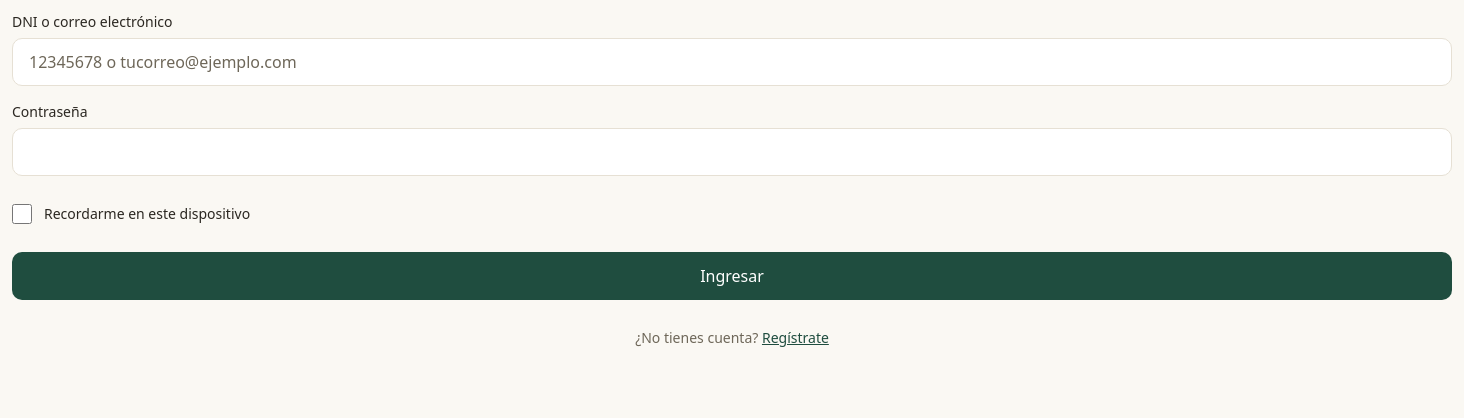
Test: M1 · Autenticación y sesión (ModalLogin + AuthContext) › Prueba 2 (error 401): credenciales inválidas muestran el mensaje de la API y no guardan sesión
The image size is (1464, 418).
Type "00000000" into the field labelled "DNI o correo electrónico" at (732, 62), box [12,38,1452,86]
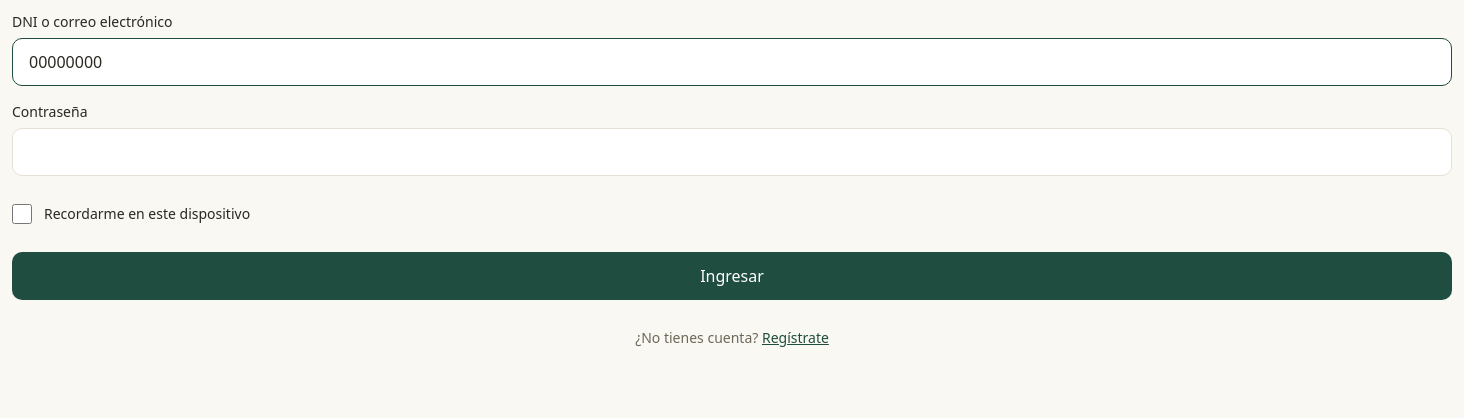
Type "incorrecta" into the password field labelled "Contraseña" at (732, 152), box [12,128,1452,176]
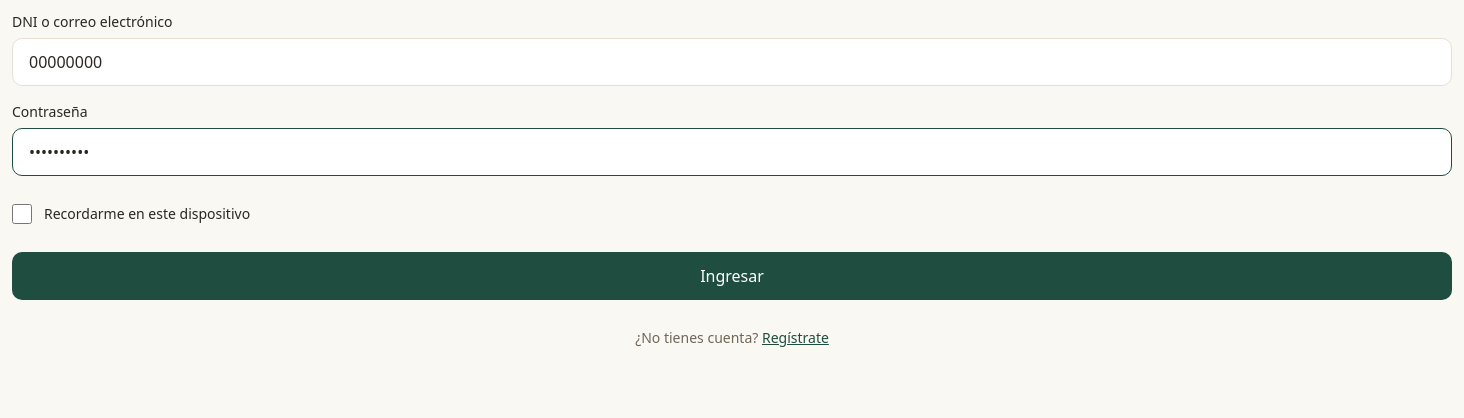
Click the button "Ingresar" at (732, 276), box [12,252,1452,300]
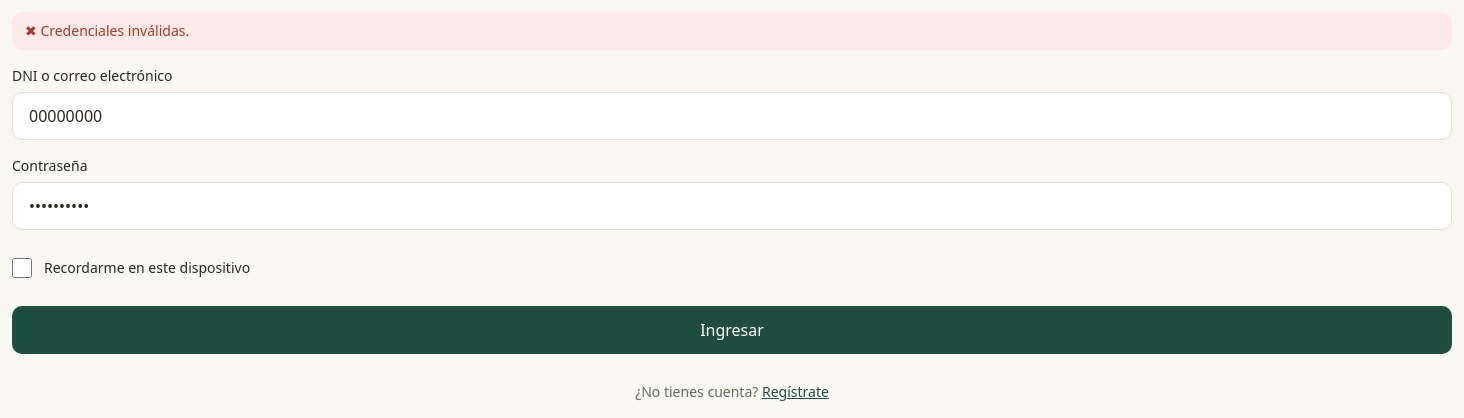
Result: the message shows "Credenciales inválidas." at [40,21,189,40]
